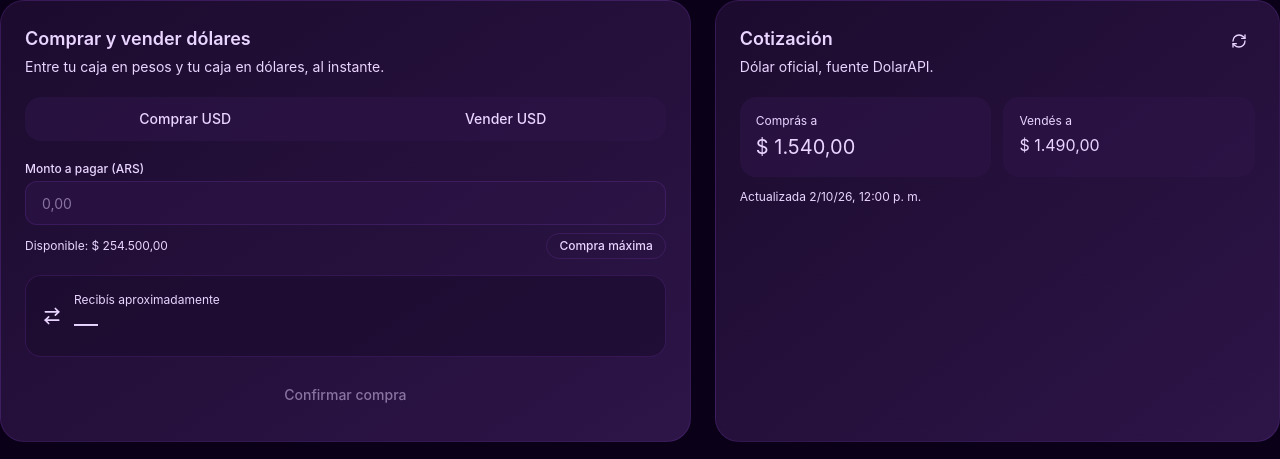
Test: compra y venta máxima › llena el campo con todo el saldo en pesos al comprar
Click the button "Compra máxima".
click(606, 246)  # box [546,233,666,259]
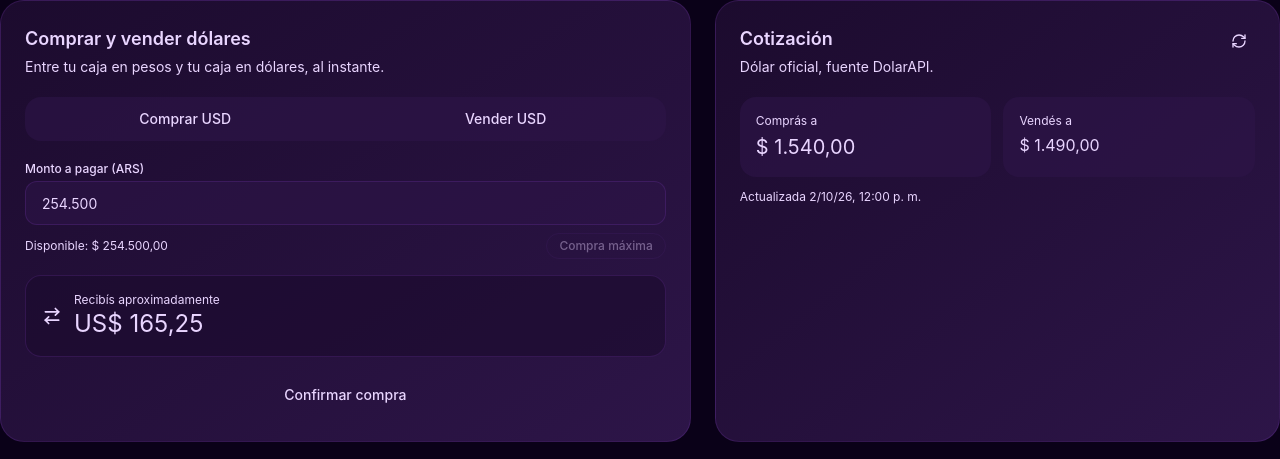
Expected: the field with placeholder "0,00" holds "254.500", [25,181,666,225]
